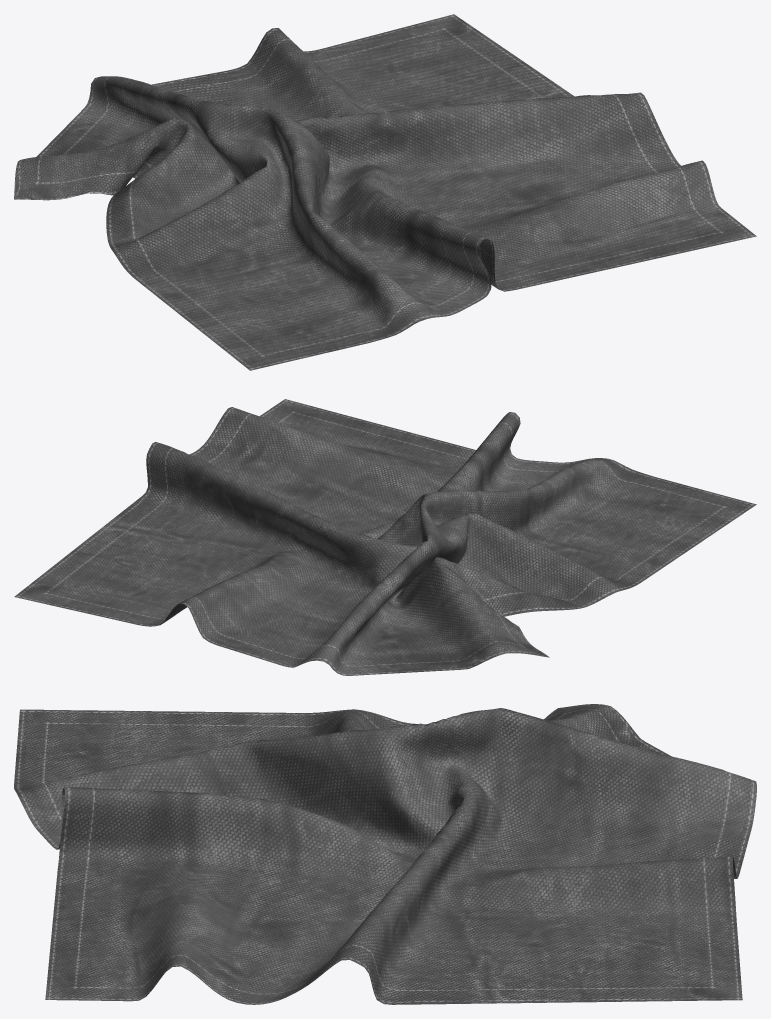
Rendered from SM_Tarp_Floor01.glb.
The picture shows the model from 3 angles, top to bottom: view 1: azimuth 30°, elevation 25°; view 2: azimuth 150°, elevation 25°; view 3: azimuth 270°, elevation 25°; orthographic projection. The views are drawn at different scales.
Parts seen in each view (by area): view 1: SM_Tarp_Floor01; view 2: SM_Tarp_Floor01; view 3: SM_Tarp_Floor01.
Part boxes in pixels (x1,y1,x2,y2): SM_Tarp_Floor01: (14,14,756,370); SM_Tarp_Floor01: (14,399,756,675); SM_Tarp_Floor01: (14,704,756,1004).
Size of the model in its own units: 2.18 by 0.3305 by 2.28.
1 material, 1 textured.
